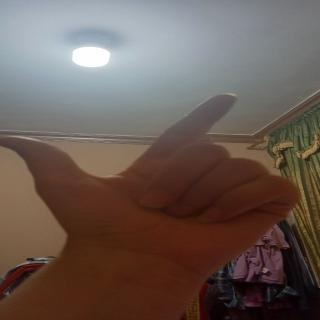LAAM: (2, 88, 320, 256)
